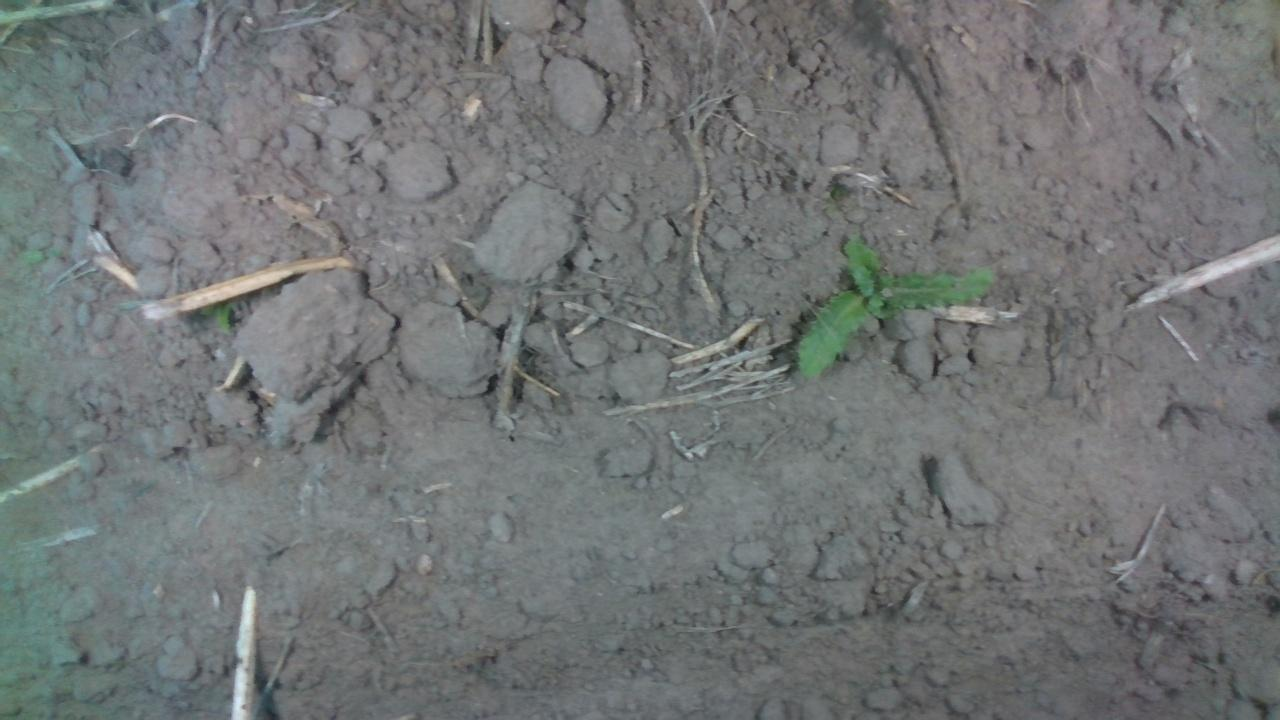weed: (793, 233, 998, 378)
